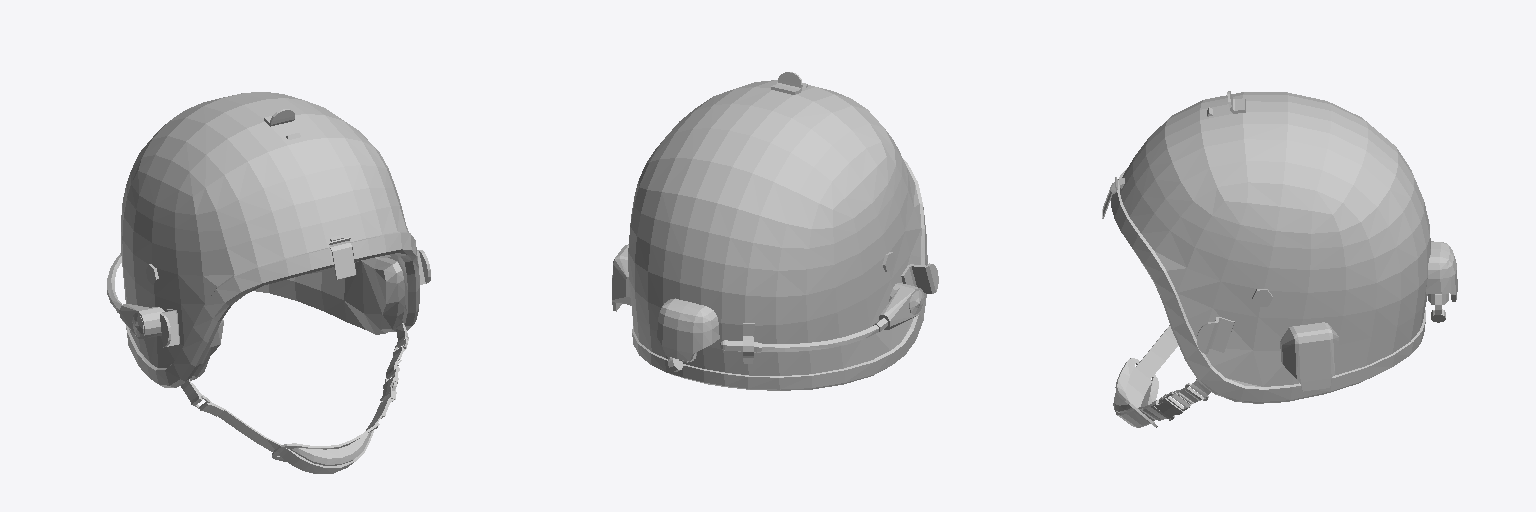
Rendered from helmet.obj.
3 views of the same model, side by side, from view 1: azimuth 30°, elevation 25°; view 2: azimuth 150°, elevation 25°; view 3: azimuth 270°, elevation 25° (orthographic).
Parts seen in each view (by area): view 1: Object_4; view 2: Object_4; view 3: Object_4.
Boxes of the visible parts, x1=… form: Object_4: x1=107, y1=92, x2=430, y2=473; Object_4: x1=612, y1=72, x2=938, y2=390; Object_4: x1=1102, y1=91, x2=1457, y2=427.
Size of the model in its own units: 0.2565 by 0.2952 by 0.289.